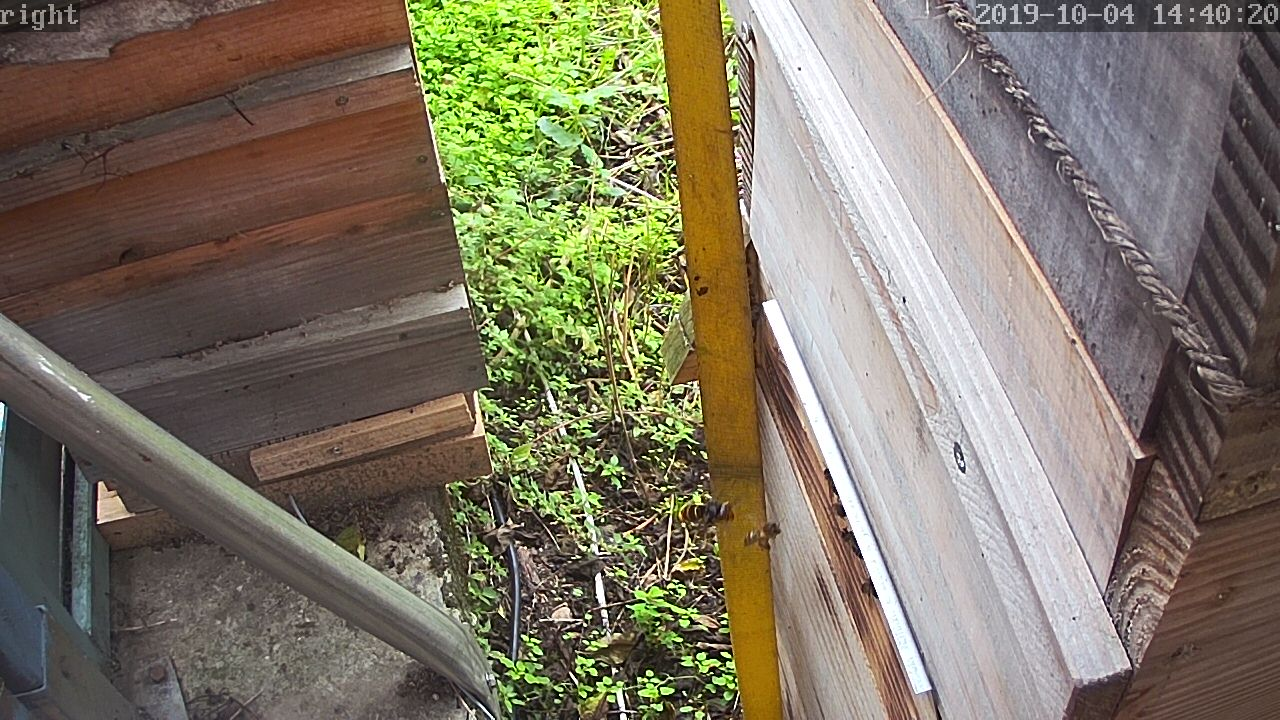bee: (741, 517, 787, 554), (835, 524, 870, 566), (816, 465, 842, 501), (853, 576, 881, 604)
hornet: (673, 486, 739, 533)
